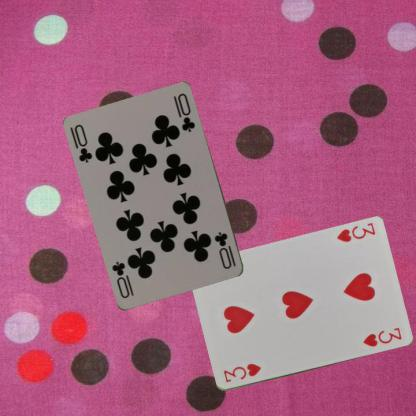10c: (68, 122, 94, 165), (212, 230, 238, 270)
3h: (334, 220, 377, 244), (221, 361, 262, 384)
